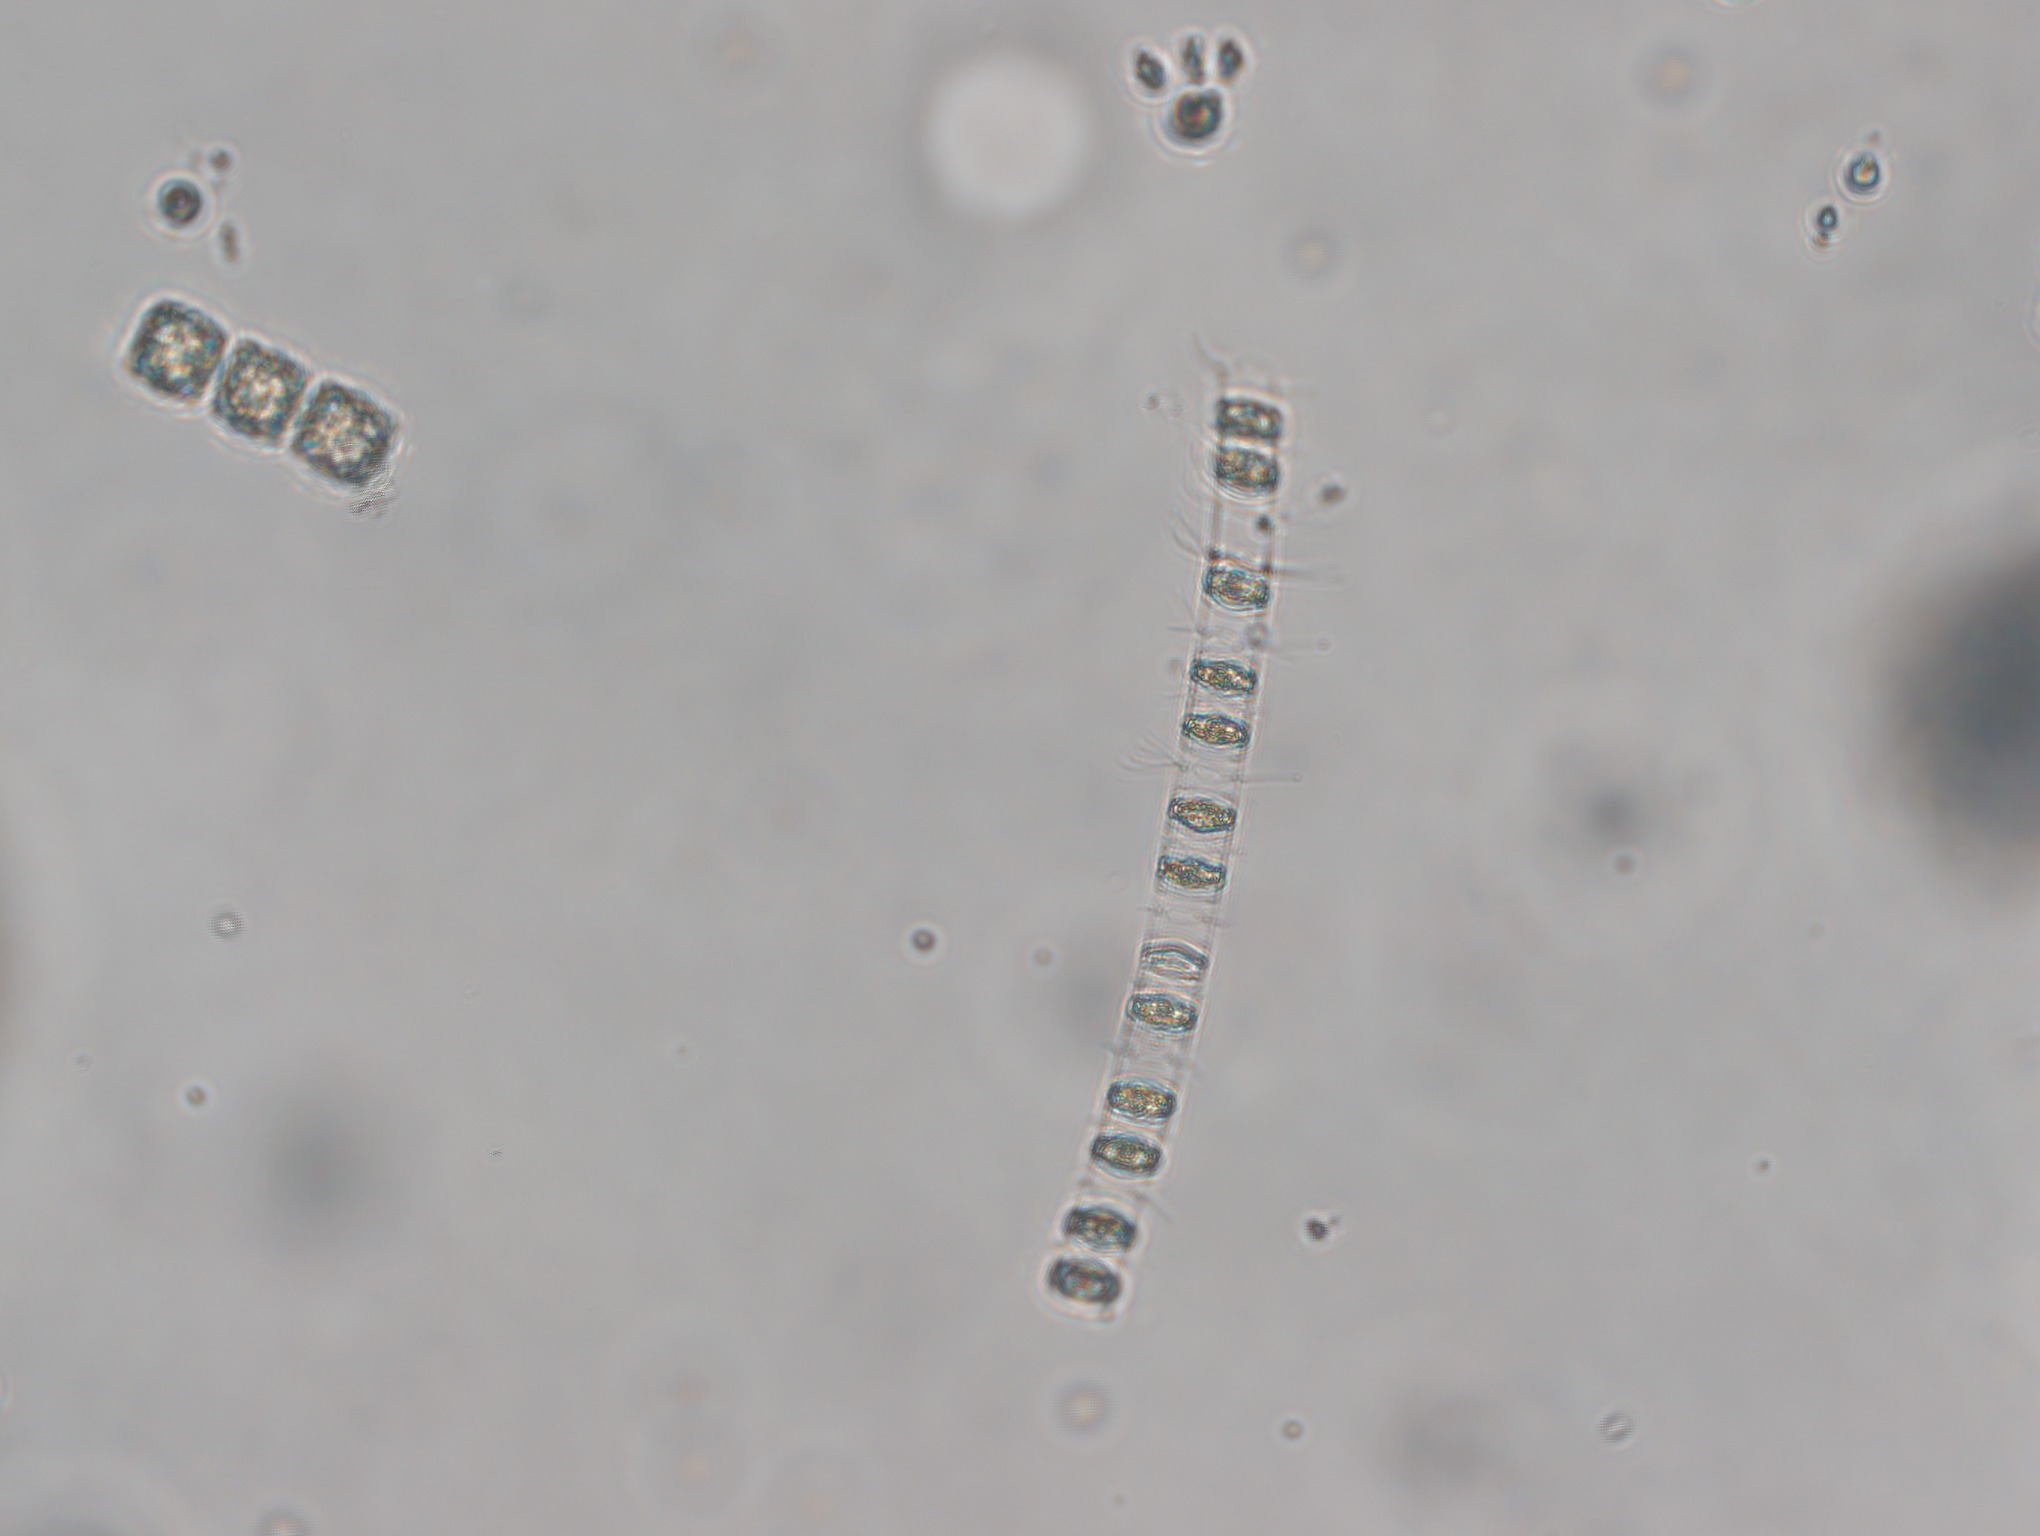chaetoceros: (1018, 337, 1347, 1329)
